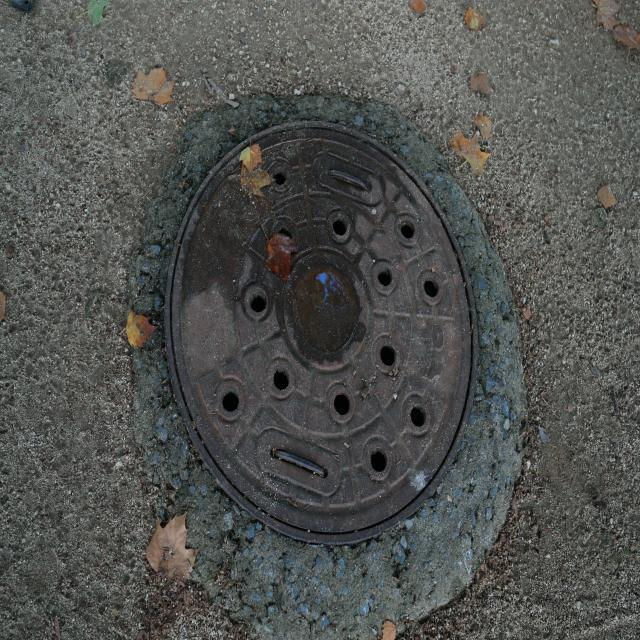manhole: (166, 122, 472, 543)
